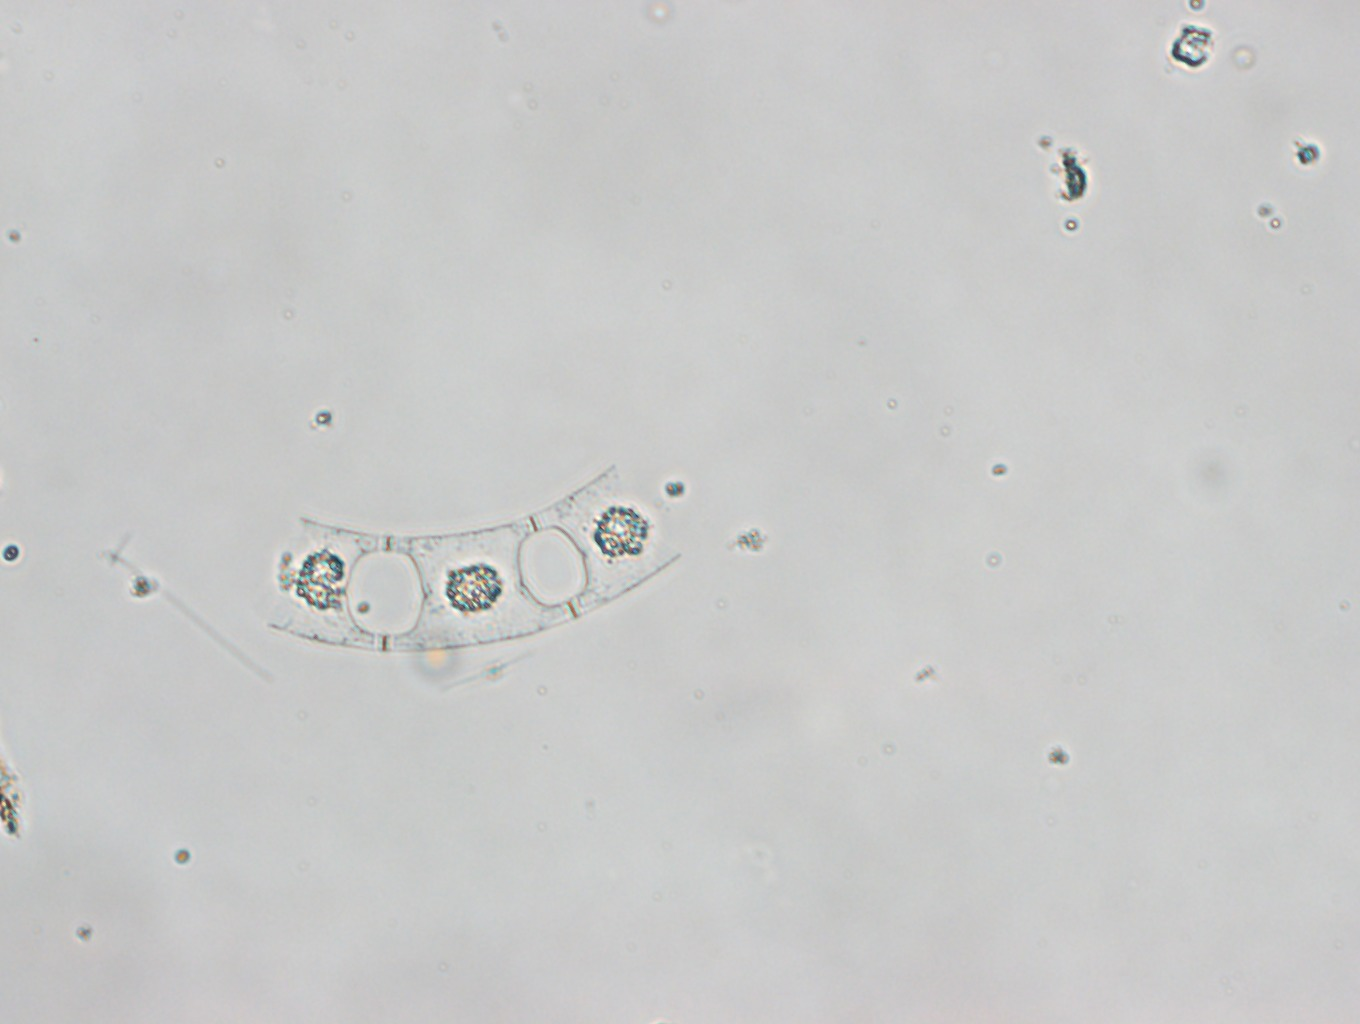eucampia: (262, 467, 675, 660)
